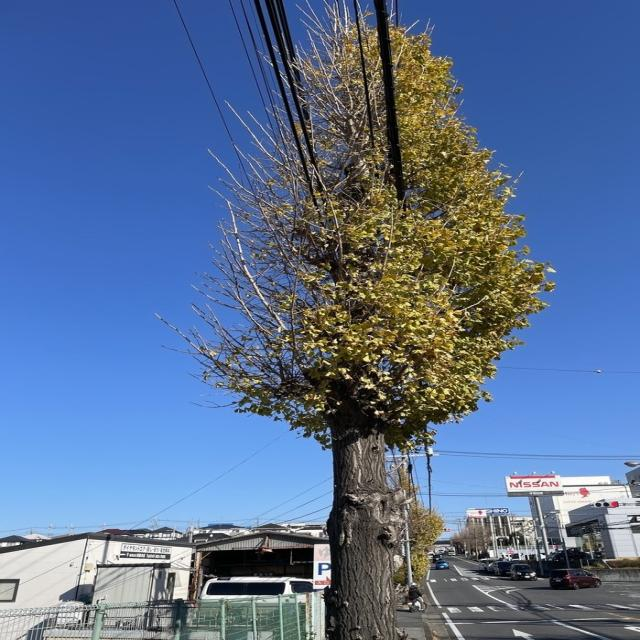ginkgo: (147, 0, 562, 640)
